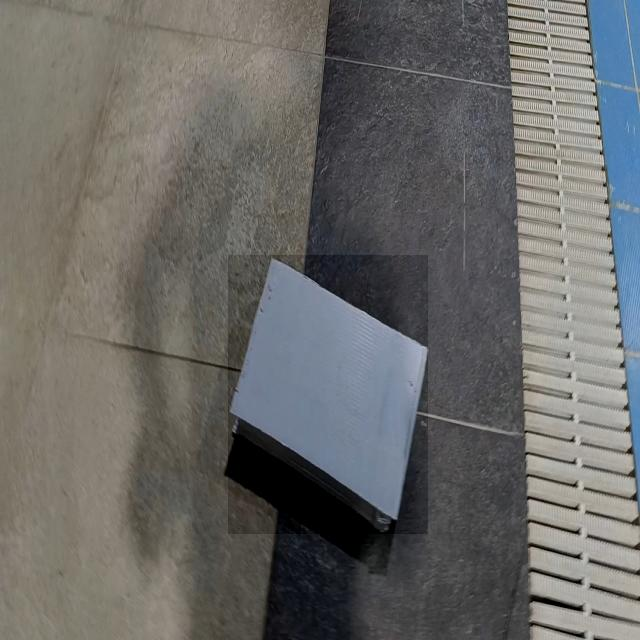Cuboid: (228, 255, 428, 534)
